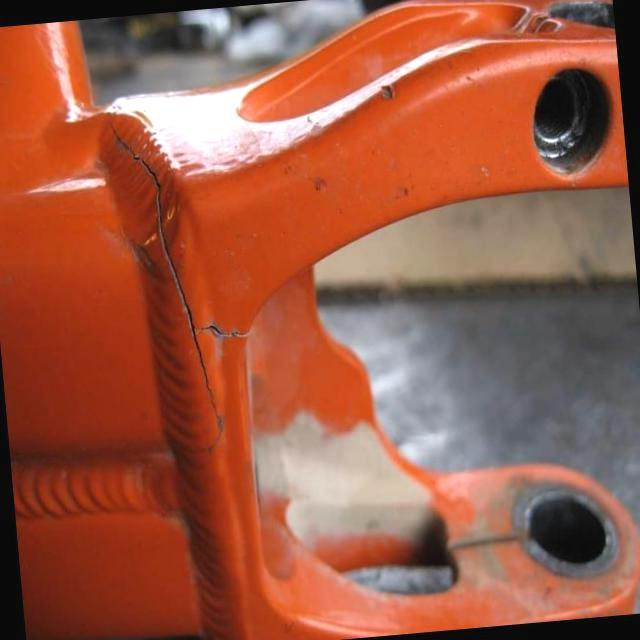defect: (106, 106, 254, 456)
